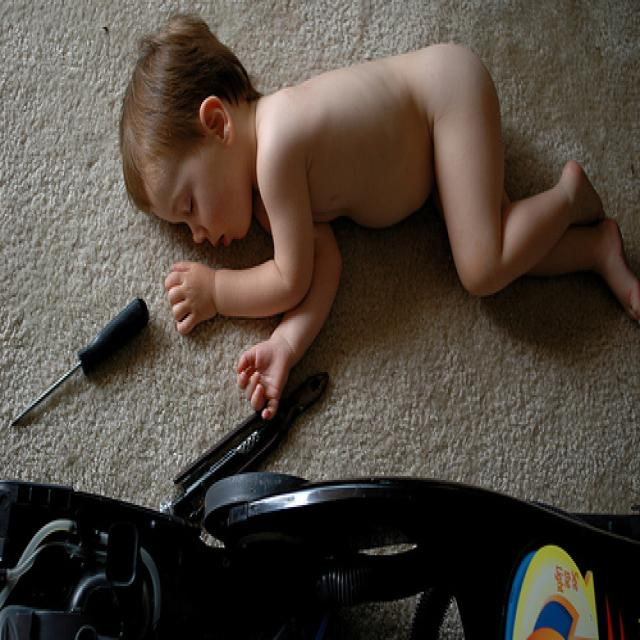screw driver: (0, 275, 159, 452)
